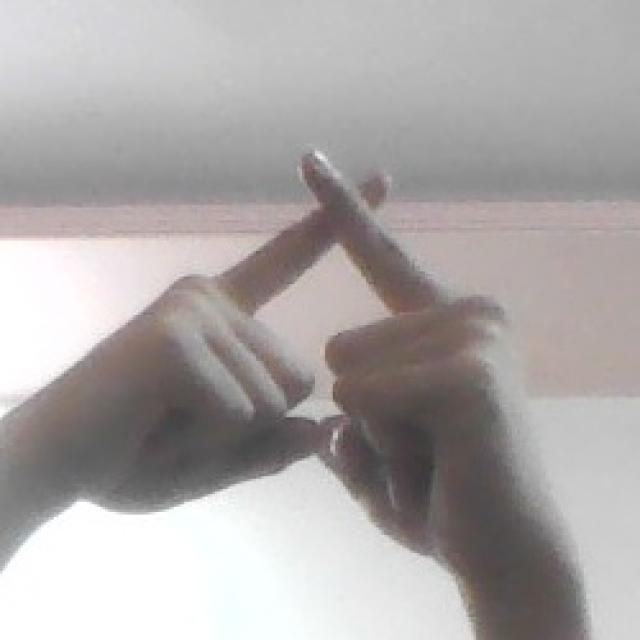Alphabet-X: (59, 142, 558, 569)
